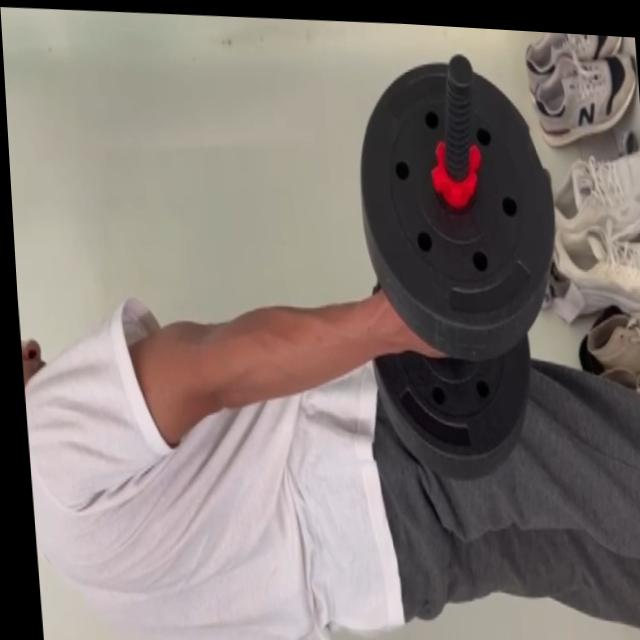dumbbell: (346, 50, 576, 493)
